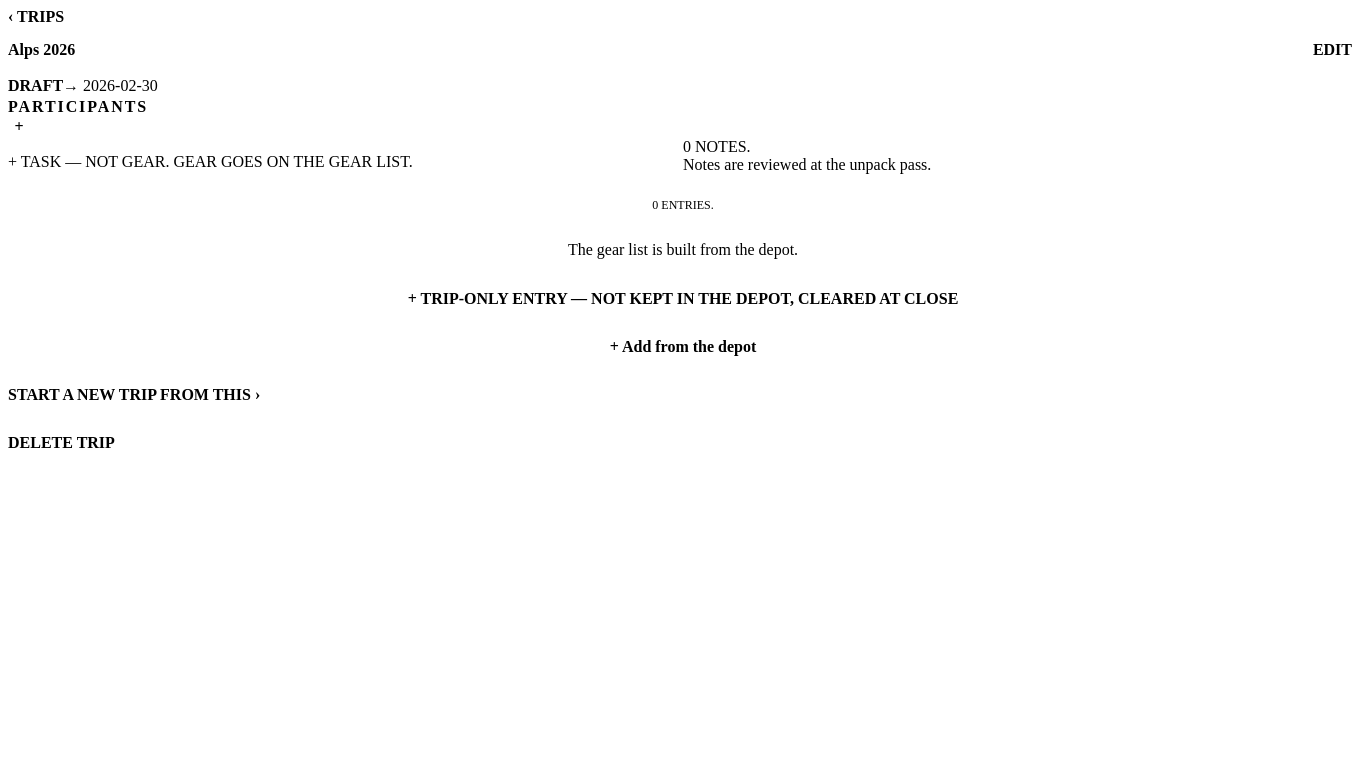
the trip screen — a stored date EDIT cannot draw › annotates a well-formed date that is not a day on the calendar
The width and height of the screenshot is (1366, 768).
Click the button "EDIT" at x=1332, y=50, box 1307,26 -> 1358,74
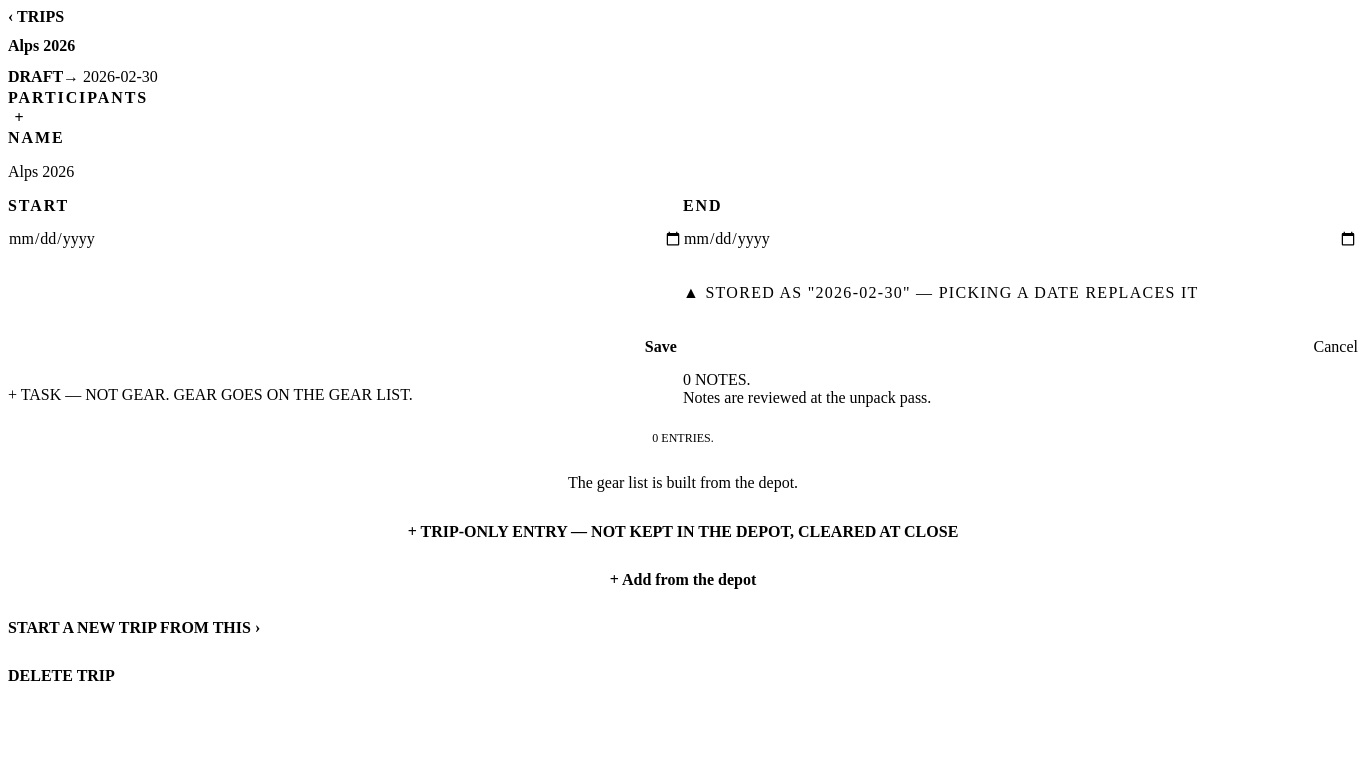
expect the element with test id "end-note" reads "▲ STORED AS \"2026-02-30\" — PICKING A DATE REPLACES IT": met, box 683,284 -> 1199,301
